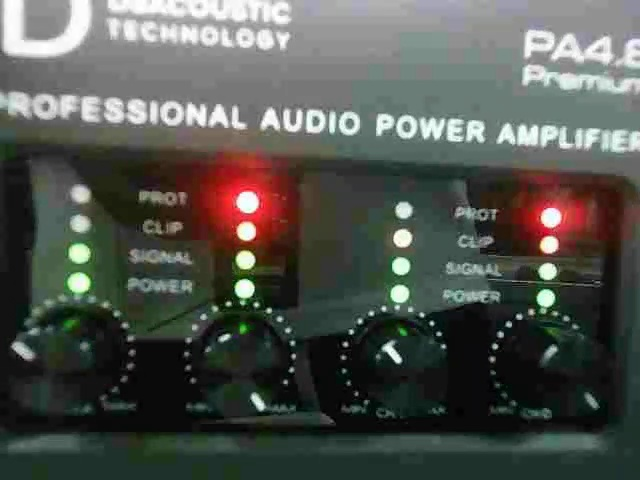A_CLIP_H: (138, 214, 259, 244), (453, 225, 562, 257), (390, 226, 504, 256)
A_CLIP_L: (67, 211, 187, 241)
A_PROT_H: (135, 183, 260, 214), (452, 198, 568, 228)
A_PROT_L: (67, 180, 193, 210), (392, 198, 502, 225)
A_PWR_H: (124, 269, 259, 304), (64, 267, 195, 300), (440, 280, 555, 312), (391, 280, 502, 310)
A_area: (60, 178, 262, 309), (381, 196, 569, 316)
